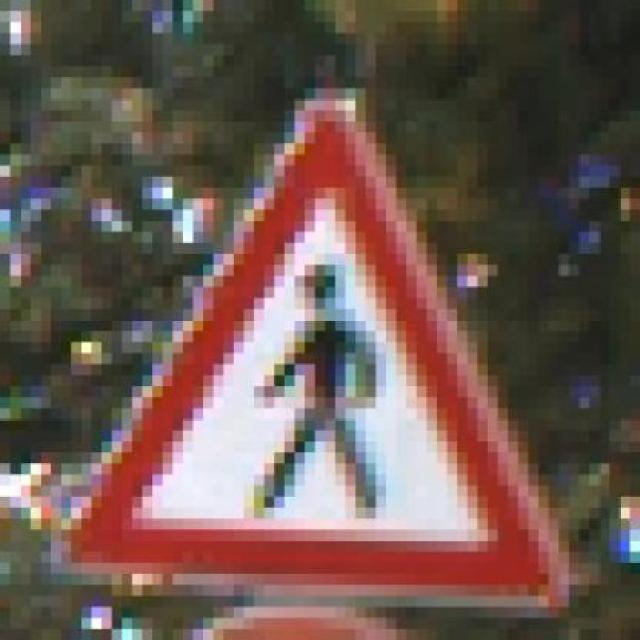Pedestrian Crossing: (69, 79, 588, 610)
